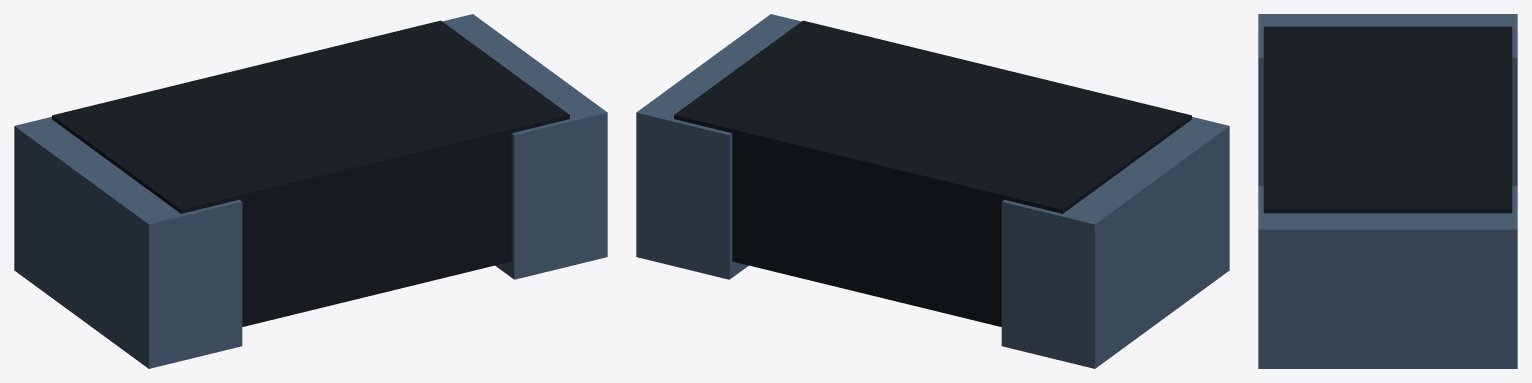
3 views of the same model, side by side, from view 1: azimuth 30°, elevation 25°; view 2: azimuth 150°, elevation 25°; view 3: azimuth 270°, elevation 25° (orthographic). The views are drawn at different scales.
Parts seen in each view (by area): view 1: 025_L103_R1; view 2: 025_L103_R1; view 3: 025_L103_R1.
Boxes of the visible parts, x1,y1,x2,y2 form: 025_L103_R1: (14,14,607,368); 025_L103_R1: (636,14,1229,368); 025_L103_R1: (1258,14,1517,368).
Size of the model in its own units: 0.236 by 0.073 by 0.12.
